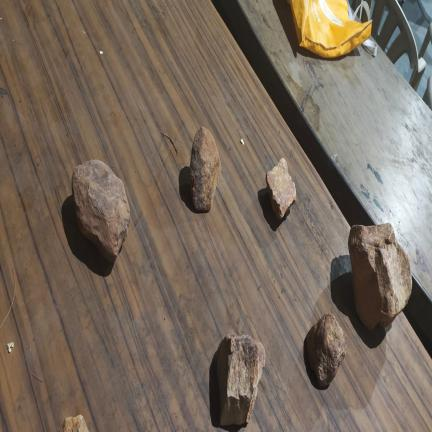Rocks: (349, 224, 412, 329), (72, 161, 129, 262), (217, 335, 265, 425), (307, 314, 346, 387), (190, 127, 221, 211), (266, 158, 296, 219), (60, 415, 88, 431)
